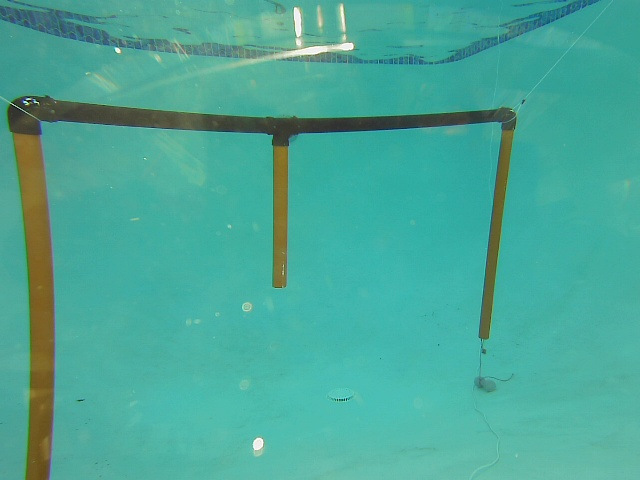Gate: (5, 121, 57, 480), (477, 122, 517, 343), (269, 139, 291, 294)
